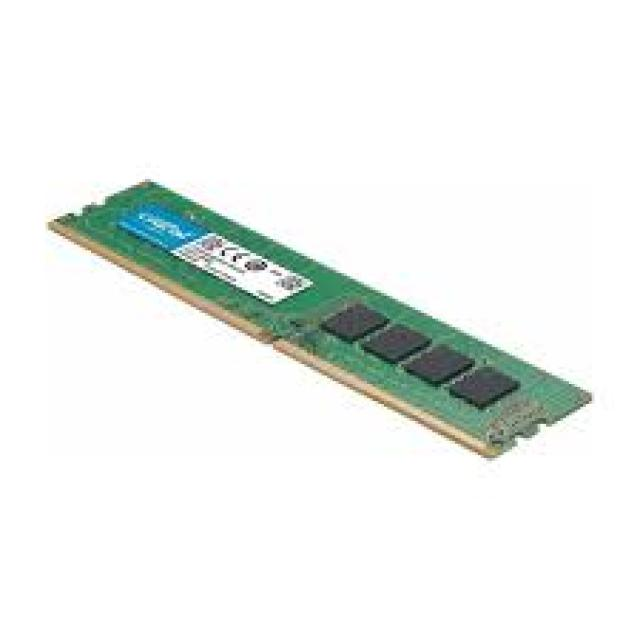Ram: (94, 137, 586, 514)
